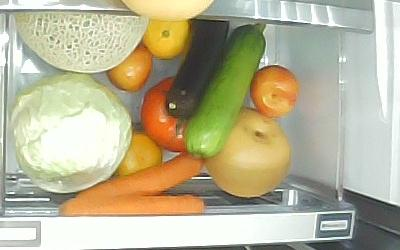cabbage: (11, 72, 136, 195)
carrot: (78, 152, 206, 195), (59, 194, 205, 215)
eggplant: (165, 20, 229, 120)
melon: (12, 12, 149, 73)
pear: (207, 106, 292, 199)
prune: (250, 64, 300, 118), (104, 41, 155, 93)
tangerine: (118, 131, 163, 175), (142, 19, 191, 58)
tomato: (140, 77, 188, 153)
zucchini: (185, 21, 269, 159)
